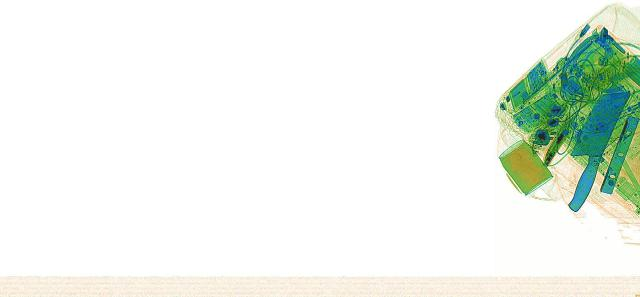Knife: (548, 89, 628, 210)
